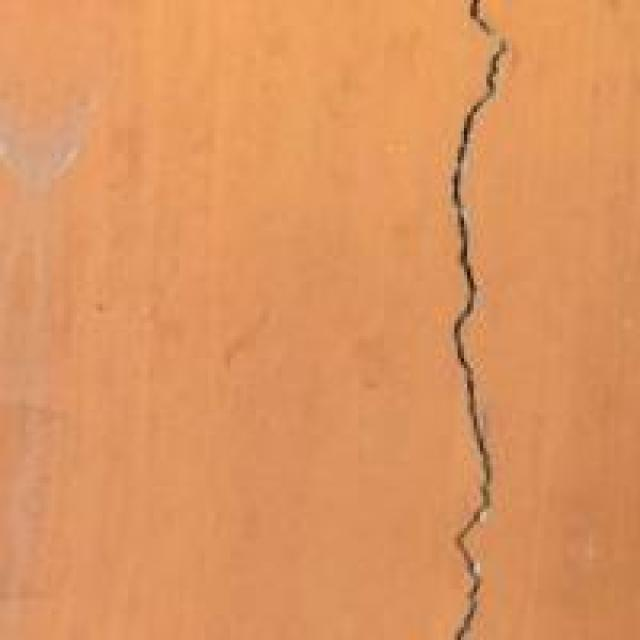Crack: (384, 0, 566, 637)
